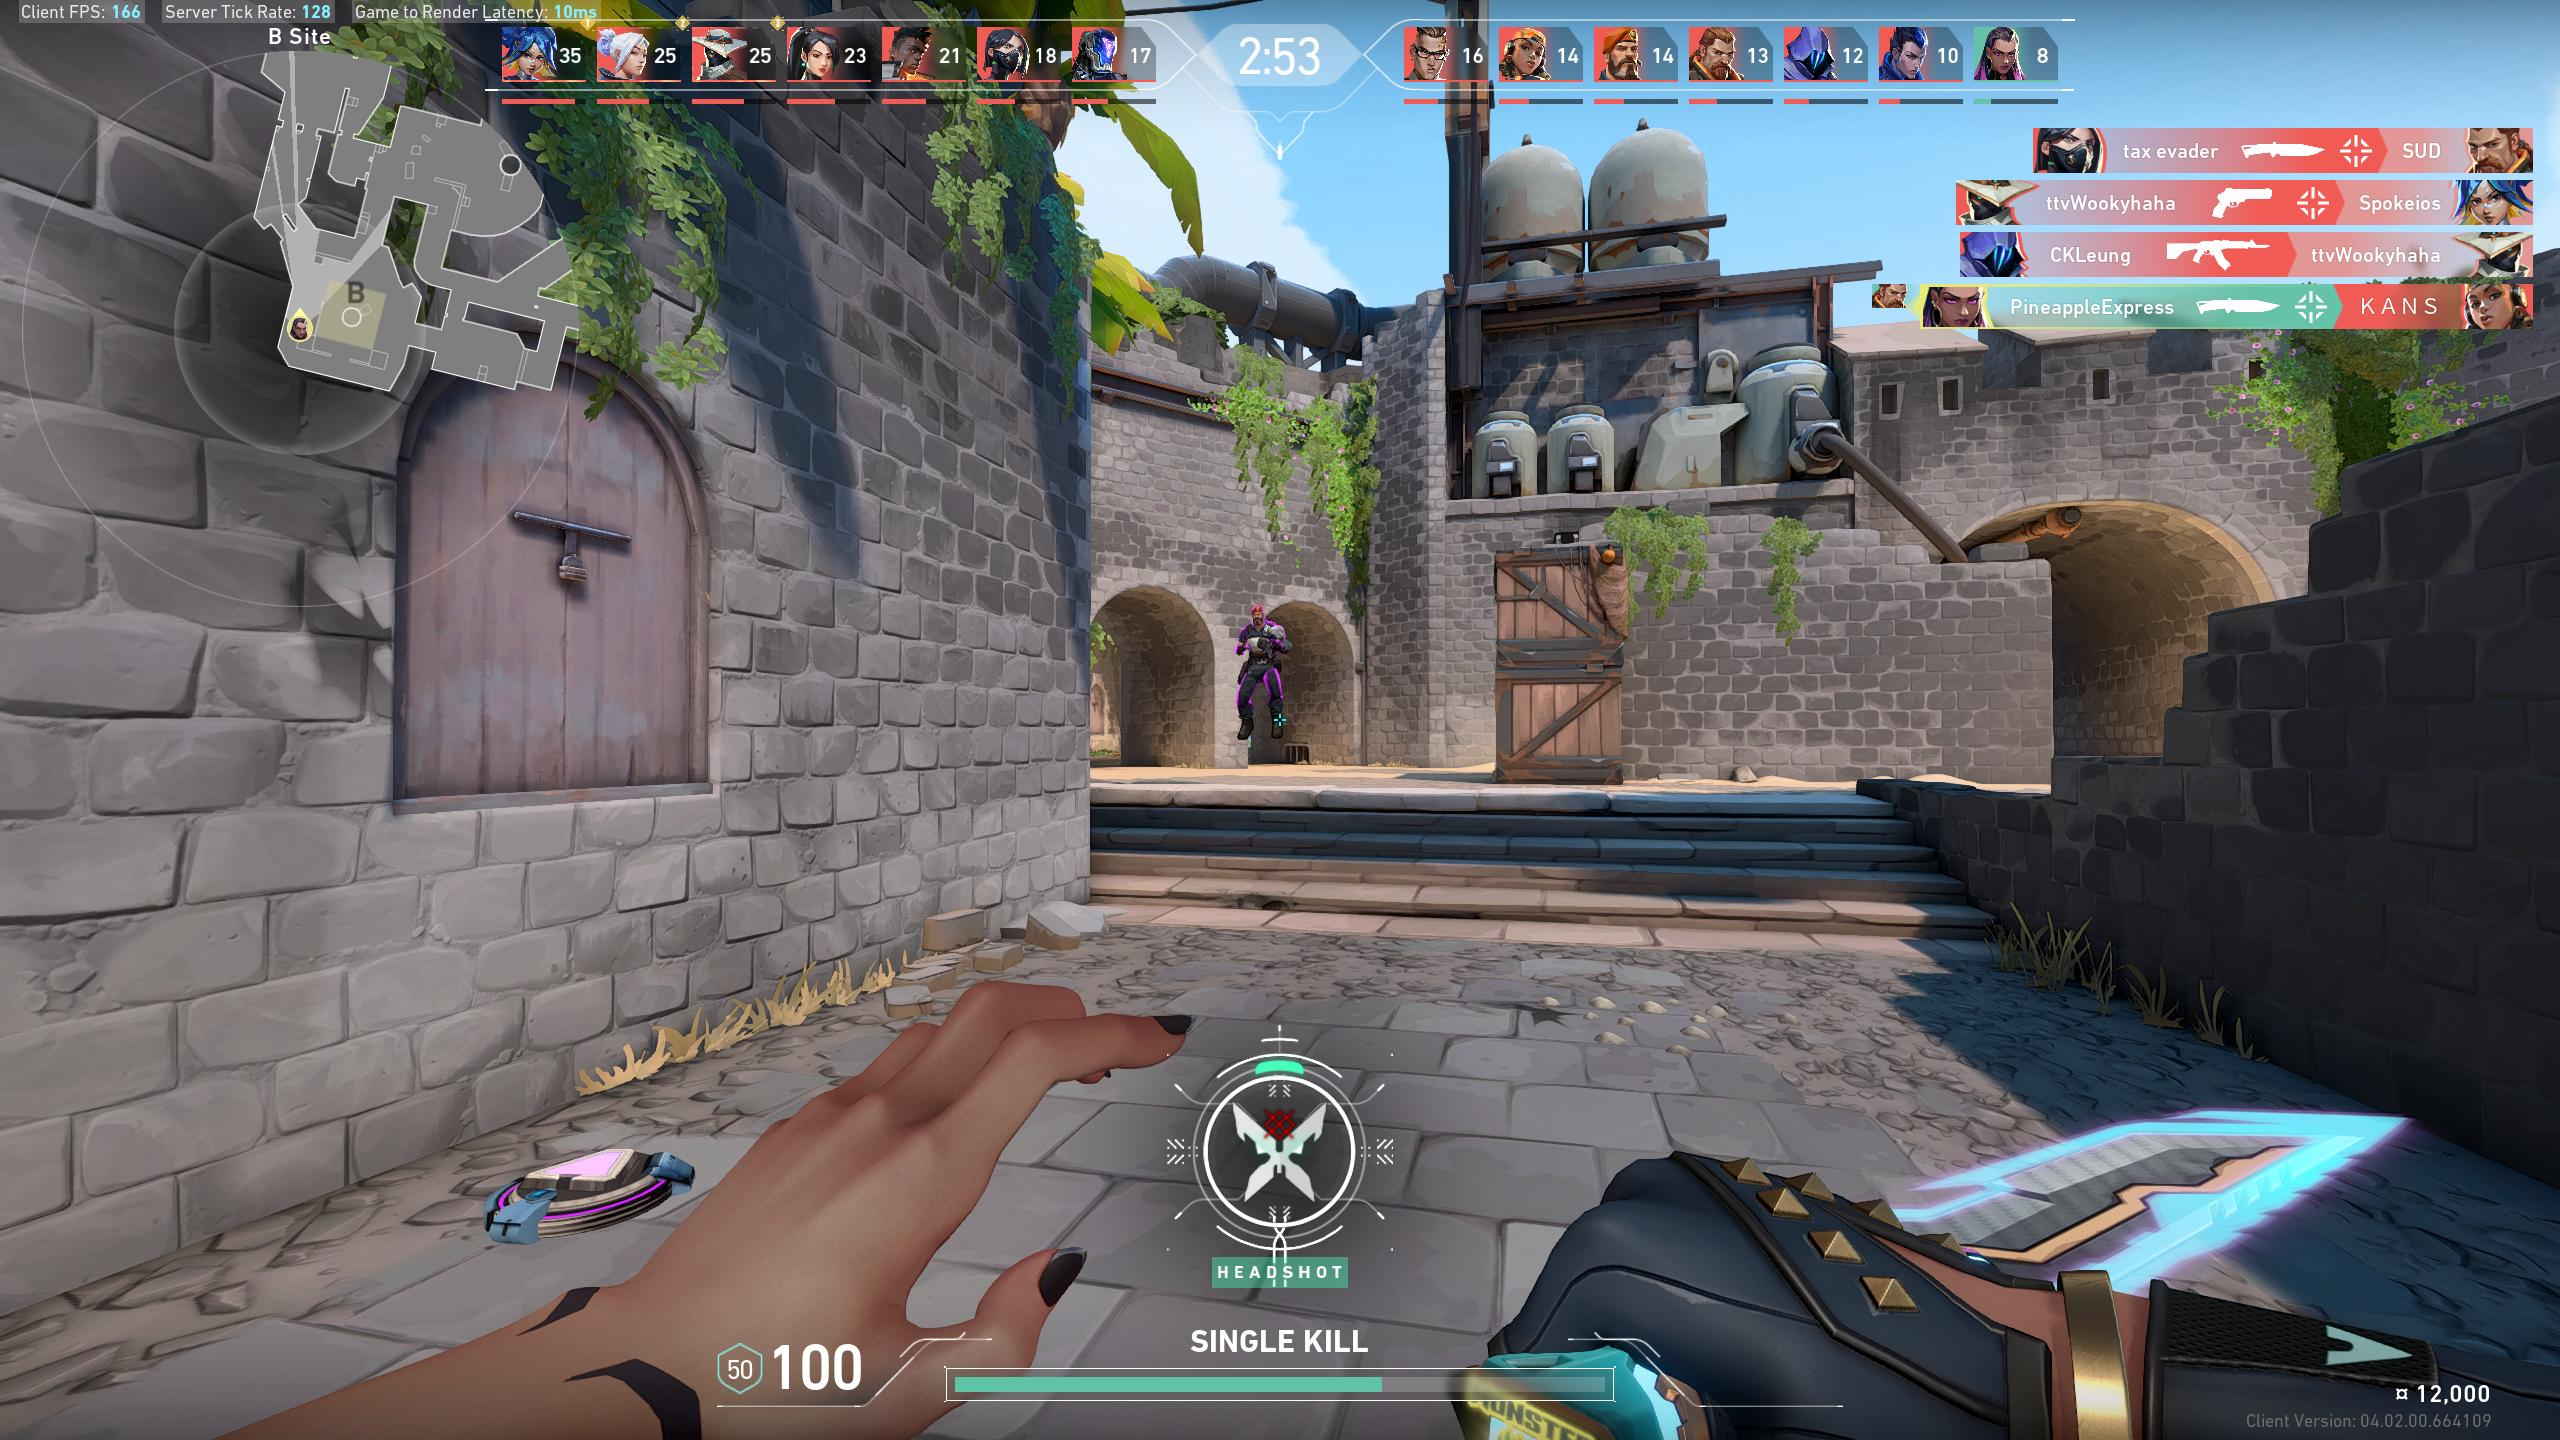enemyBody: (1252, 628, 1268, 663)
enemyHead: (1254, 610, 1262, 624)
